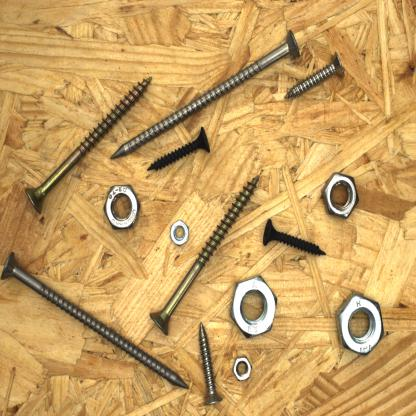screw: (0, 247, 192, 391), (108, 26, 306, 164), (21, 74, 154, 221), (148, 170, 262, 338), (282, 49, 347, 103), (144, 124, 213, 173), (260, 214, 330, 260), (196, 319, 225, 407)
